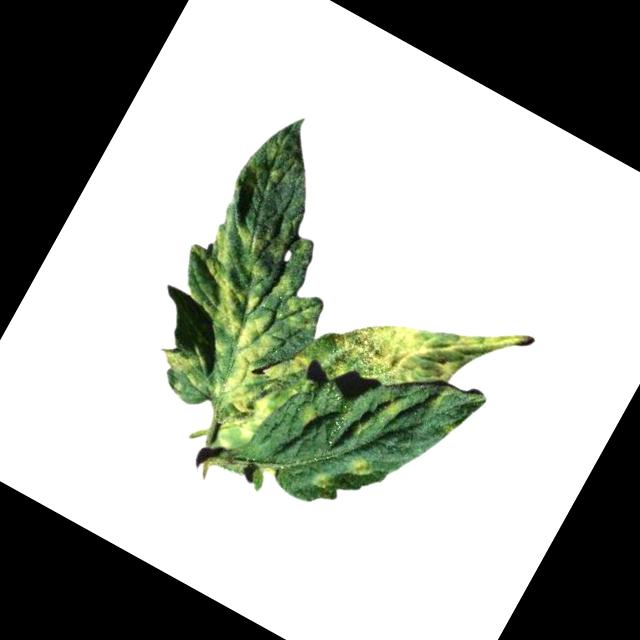Leaf_Mold: (113, 206, 354, 463), (321, 255, 546, 448), (154, 340, 201, 381), (345, 449, 380, 482), (290, 397, 323, 432), (307, 469, 332, 492)
